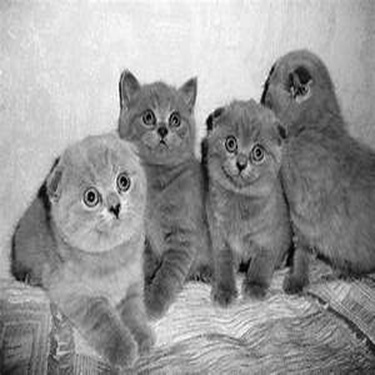cat: (13, 131, 157, 368), (258, 46, 372, 294), (117, 67, 214, 321), (200, 98, 292, 308)
